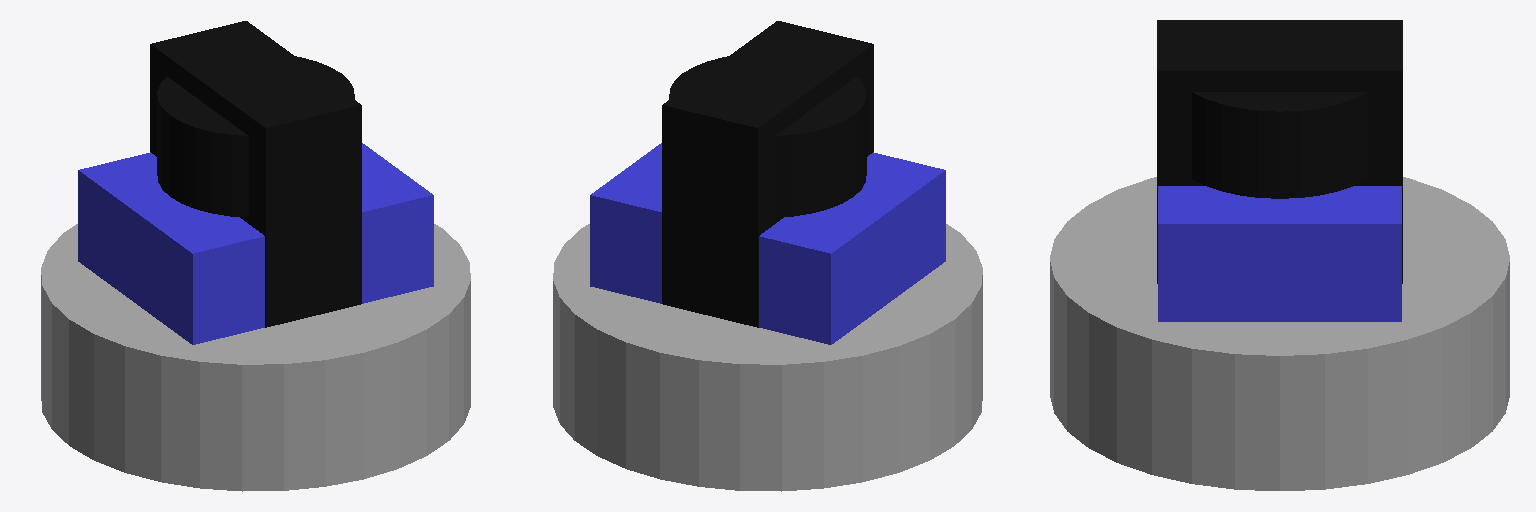
URDF robot description (evolved_robot):
<?xml version="1.0"?>
<robot name="evolved_robot">
  <material name="metal">
    <color rgba="0.7 0.7 0.7 1.0"/>
  </material>
  <material name="plastic">
    <color rgba="0.3 0.3 0.9 1.0"/>
  </material>
  <material name="rubber">
    <color rgba="0.1 0.1 0.1 1.0"/>
  </material>
  <material name="red">
    <color rgba="1.0 0.0 0.0 1.0"/>
  </material>
  <material name="wheel_material">
    <color rgba="0.2 0.2 0.2 1.0"/>
  </material>
  <link name="base_link">
    <visual>
      <geometry><cylinder radius="0.1408473367199198" length="0.09138925726701656"/></geometry>
      <material name="metal"/>
    </visual>
    <collision>
      <geometry><cylinder radius="0.1408473367199198" length="0.09138925726701656"/></geometry>
    </collision>
    <inertial>
      <mass value="5.0"/>
      <inertia ixx="0.05655492760591695" ixy="0" ixz="0" 
               iyy="0.05655492760591695" iyz="0" 
               izz="0.09918986130547236"/>
    </inertial>
  </link>
  <link name="link1">
    <visual>
      <geometry><box size="0.18198384974795667 0.14967259158414847 0.13188925897552822"/></geometry>
      <material name="plastic"/>
    </visual>
    <collision>
      <geometry><box size="0.18198384974795667 0.14967259158414847 0.13188925897552822"/></geometry>
    </collision>
    <inertial>
      <mass value="0.5"/>
      <inertia ixx="0.0033163884420524385" ixy="0" ixz="0" 
               iyy="0.004209408183516735" iyz="0" 
               izz="0.004626667186716849"/>
    </inertial>
  </link>
  <joint name="joint1" type="revolute">
    <parent link="base_link"/>
    <child link="link1"/>
    <origin xyz="0 0 0.04569462863350828" rpy="0 0 0"/>
    <axis xyz="-0.8253497731064171 0.29301956369571897 -0.48263577087153015"/>
    <dynamics damping="0.6510069426411322" friction="0.1"/>
    <limit lower="-1.6878129517187643" upper="1.099" effort="100" velocity="100"/>
  </joint>
  <link name="link2">
    <visual>
      <geometry><box size="0.07242867081383741 0.15081584944067727 0.1878397265862416"/></geometry>
      <material name="rubber"/>
    </visual>
    <collision>
      <geometry><box size="0.07242867081383741 0.15081584944067727 0.1878397265862416"/></geometry>
    </collision>
    <inertial>
      <mass value="0.5"/>
      <inertia ixx="0.0048357652772089196" ixy="0" ixz="0" 
               iyy="0.0033774729366544353" iyz="0" 
               izz="0.0023326110665310216"/>
    </inertial>
  </link>
  <joint name="joint2" type="revolute">
    <parent link="base_link"/>
    <child link="link2"/>
    <origin xyz="0 0 0.09569462863350828" rpy="0 0 0"/>
    <axis xyz="0.13005132187939997 0.990658626376977 -0.04101389596590046"/>
    <dynamics damping="0.7292250985731518" friction="0.1"/>
    <limit lower="-2.414115064041525" upper="0.2964545617451301" effort="100" velocity="100"/>
  </joint>
  <link name="link3">
    <visual>
      <geometry><cylinder radius="0.06466784620840986" length="0.05887485180202661"/></geometry>
      <material name="rubber"/>
    </visual>
    <collision>
      <geometry><cylinder radius="0.06466784620840986" length="0.05887485180202661"/></geometry>
    </collision>
    <inertial>
      <mass value="0.5"/>
      <inertia ixx="0.0013343365978678537" ixy="0" ixz="0" 
               iyy="0.0013343365978678537" iyz="0" 
               izz="0.002090965166617275"/>
    </inertial>
  </link>
  <joint name="joint3" type="fixed">
    <parent link="base_link"/>
    <child link="link3"/>
    <origin xyz="0 0 0.1456946286335083" rpy="0 0 0"/>
    <axis xyz="-0.22006502906516345 0.8806745142696449 -0.4195042108232927"/>
    <dynamics damping="0.5898181450742151" friction="0.1"/>
  </joint>
  <link name="link4">
    <visual>
      <geometry>
        <cylinder radius="0.0639880196653492" length="0.05801574256786164"/>
      </geometry>
      <material name="wheel_material"/>
    </visual>
    <collision>
      <geometry>
        <cylinder radius="0.0639880196653492" length="0.05801574256786164"/>
      </geometry>
    </collision>
    <inertial>
      <mass value="1.0"/>
      <inertia ixx="0.0013041021973149785" ixy="0" ixz="0" 
               iyy="0.0013041021973149785" iyz="0" 
               izz="0.002047233330346558"/>
    </inertial>
  </link>
  <joint name="joint4" type="continuous">
    <parent link="base_link"/>
    <child link="link4"/>
    <origin xyz="0 0 0" rpy="1.5708 0 0"/>
    <axis xyz="0 1 0"/>
    <dynamics damping="0.7620209808535042" friction="0.1"/>
  </joint>
</robot>

--- Facts derived from the render (not from the file) ---
3 views of the same robot in one strip: view 1: azimuth 30°, elevation 25°; view 2: azimuth 150°, elevation 25°; view 3: azimuth 270°, elevation 25° (orthographic).
Robot: evolved_robot — 5 links, 4 joints (2 revolute, 1 continuous, 1 fixed); root link base_link; default pose: every joint at zero.
Links seen in each view (by area): view 1: base_link, link2, link1, link3; view 2: base_link, link2, link1, link3; view 3: base_link, link1, link2, link3.
Link boxes in pixels (bbox=[...]): base_link: bbox=[41, 224, 470, 491]; link2: bbox=[150, 21, 361, 327]; link1: bbox=[78, 143, 433, 344]; link3: bbox=[157, 56, 354, 217]; base_link: bbox=[553, 224, 982, 491]; link2: bbox=[662, 21, 873, 327]; link1: bbox=[590, 143, 945, 344]; link3: bbox=[669, 56, 866, 217]; base_link: bbox=[1050, 177, 1509, 490]; link1: bbox=[1158, 186, 1401, 321]; link2: bbox=[1157, 20, 1402, 283]; link3: bbox=[1192, 92, 1367, 198].
Bounding box of the posed robot: 0.2817 × 0.2817 × 0.2536 m (x, y, z).
Geometry: primitives only (box / cylinder / sphere), no mesh files.